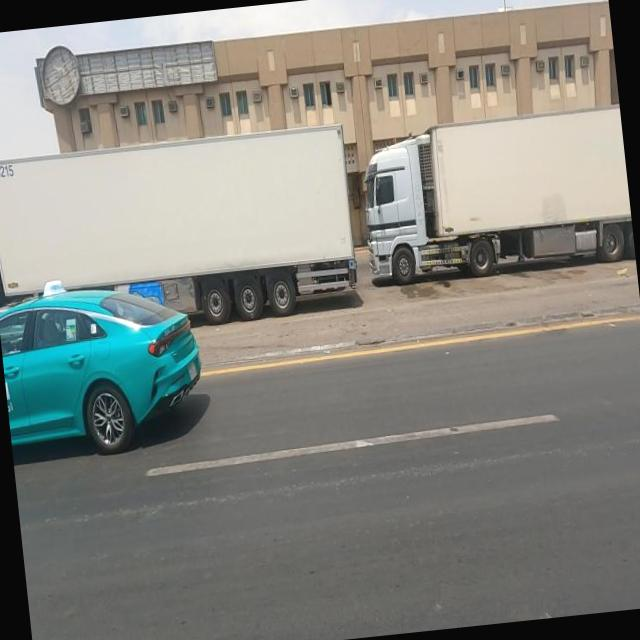debris: (0, 0, 313, 157)
